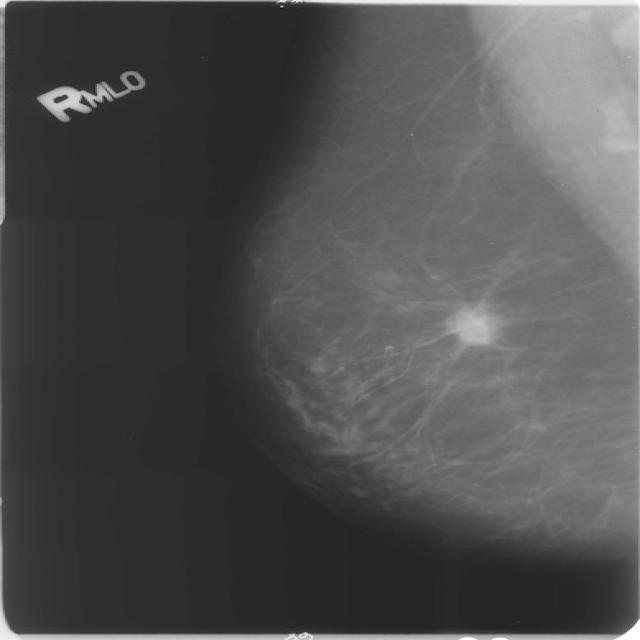tumour: (444, 302, 500, 346)
